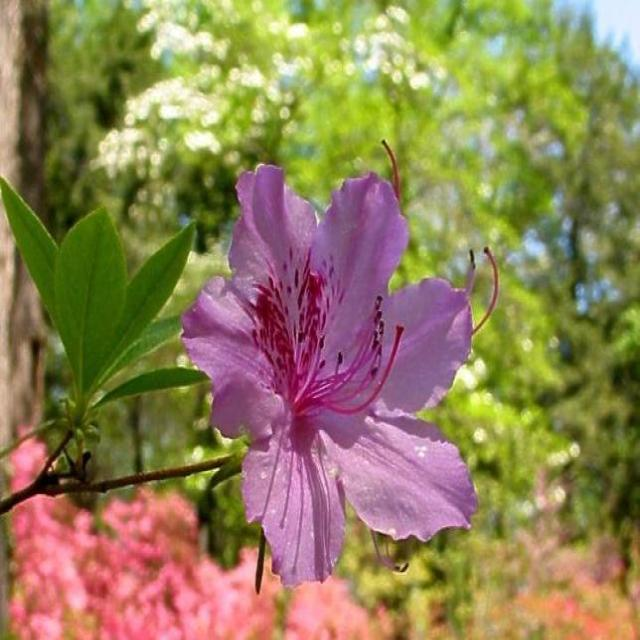azalea: (197, 178, 486, 584)
